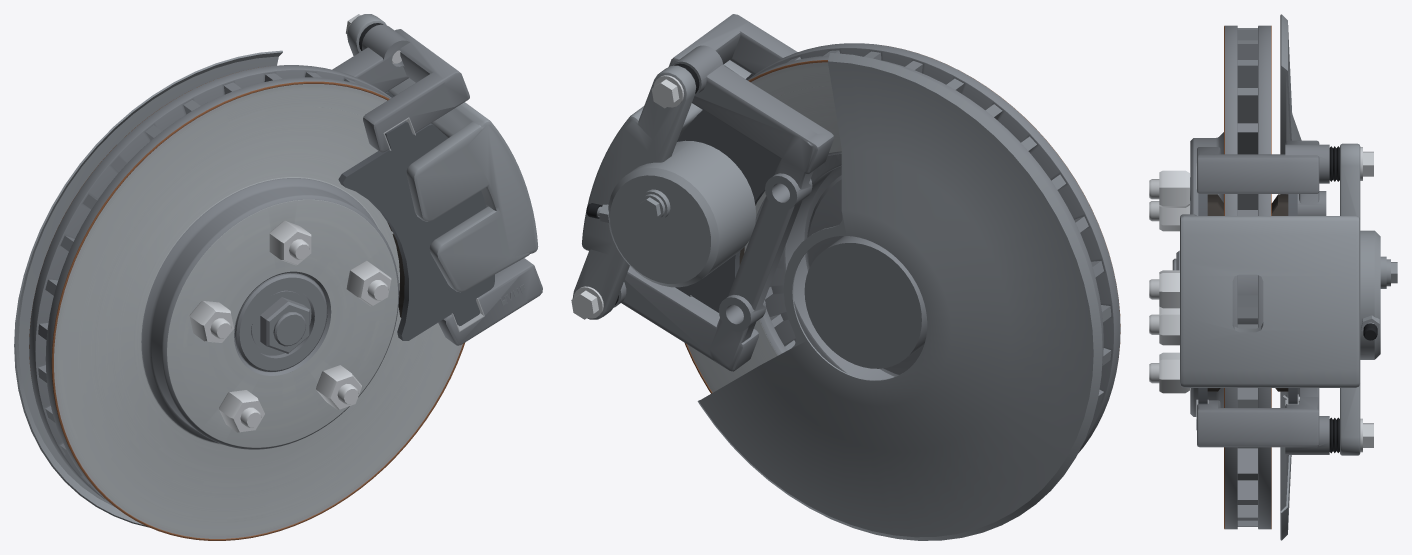
File: brake-corner-v1.glb
3 renders of one model, left to right at view 1: azimuth 30°, elevation 25°; view 2: azimuth 150°, elevation 25°; view 3: azimuth 270°, elevation 25°, orthographic. The views are drawn at different scales.
Visible parts, largest first — view 1: Rotor, CaliperBody, Bracket, PadOuter_Backing, DustShield, StudsNuts, Hub; view 2: DustShield, CaliperBody, Rotor, Bracket, Hub, PadInner_Backing, SlidePins; view 3: CaliperBody, Rotor, Bracket, StudsNuts, DustShield, SlidePins, Hub, PadInner_Friction, PadOuter_Friction, PadOuter_Backing, PadInner_Backing.
Part boxes in pixels (bbox=[...]): Rotor: bbox=[29, 65, 465, 540]; CaliperBody: bbox=[347, 14, 538, 292]; Bracket: bbox=[332, 24, 542, 345]; PadOuter_Backing: bbox=[338, 121, 494, 340]; DustShield: bbox=[14, 50, 282, 527]; StudsNuts: bbox=[189, 221, 391, 432]; Hub: bbox=[235, 273, 327, 371]; DustShield: bbox=[697, 53, 1102, 540]; CaliperBody: bbox=[572, 60, 755, 319]; Rotor: bbox=[684, 43, 1120, 453]; Bracket: bbox=[613, 14, 833, 371]; Hub: bbox=[804, 175, 927, 375]; PadInner_Backing: bbox=[675, 110, 780, 312]; SlidePins: bbox=[571, 63, 699, 319]; CaliperBody: bbox=[1180, 143, 1397, 455]; Rotor: bbox=[1190, 25, 1271, 529]; Bracket: bbox=[1196, 140, 1329, 454]; StudsNuts: bbox=[1149, 170, 1189, 393]; DustShield: bbox=[1280, 14, 1301, 540]; SlidePins: bbox=[1329, 146, 1373, 453]; Hub: bbox=[1172, 250, 1257, 324]; PadInner_Friction: bbox=[1271, 194, 1288, 391]; PadOuter_Friction: bbox=[1207, 194, 1223, 391]; PadOuter_Backing: bbox=[1198, 193, 1207, 404]; PadInner_Backing: bbox=[1288, 194, 1297, 404].
Bounding box in the file's own units: 0.338 × 0.3098 × 0.146.
9 materials, 1 textured.
